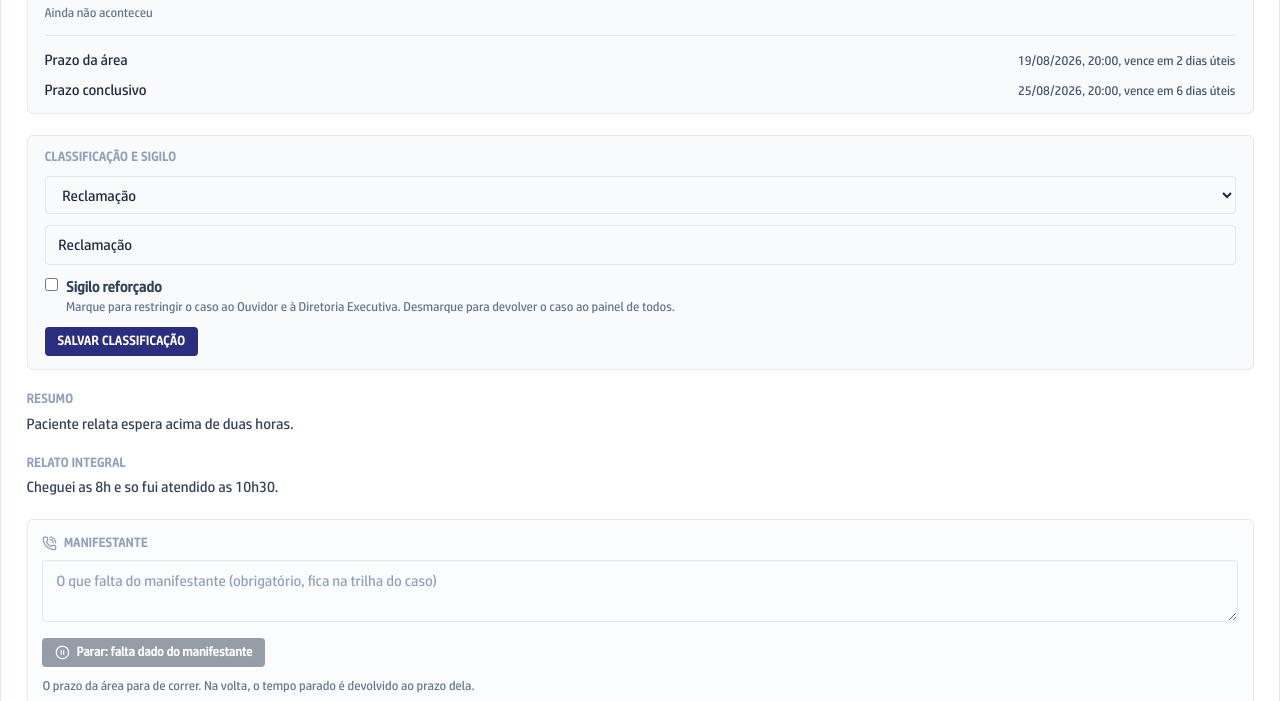
Test: os quatro marcos na página do caso (issue #480) › o bloco continua na tela depois de uma ação do ouvidor, com o número novo
This screenshot has width=1280, height=701.
(page scrolled)
Step 1. Click the button "Salvar classificação" → point(121, 342), box [44,327,198,356]
(page scrolled)
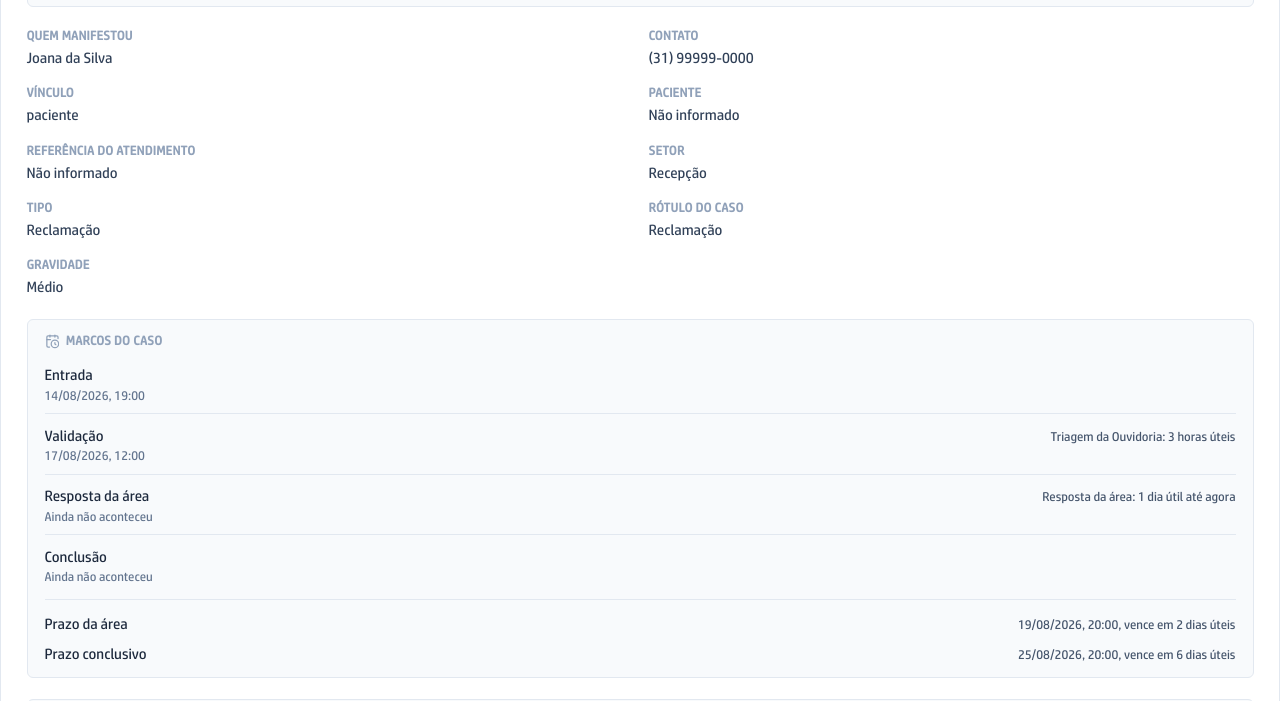
Expected: the heading "Marcos do caso" is shown, [44,333,162,349]
Result: the text "Triagem da Ouvidoria: 3 horas úteis" is shown at [1050,429,1236,446]
